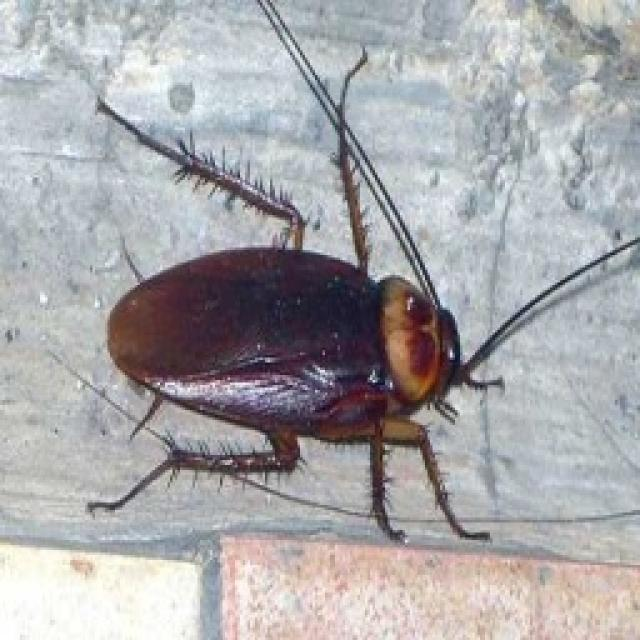cockroach: (67, 88, 565, 552)
